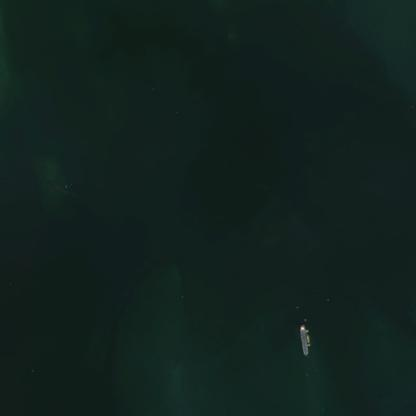ship: (293, 318, 317, 362)
